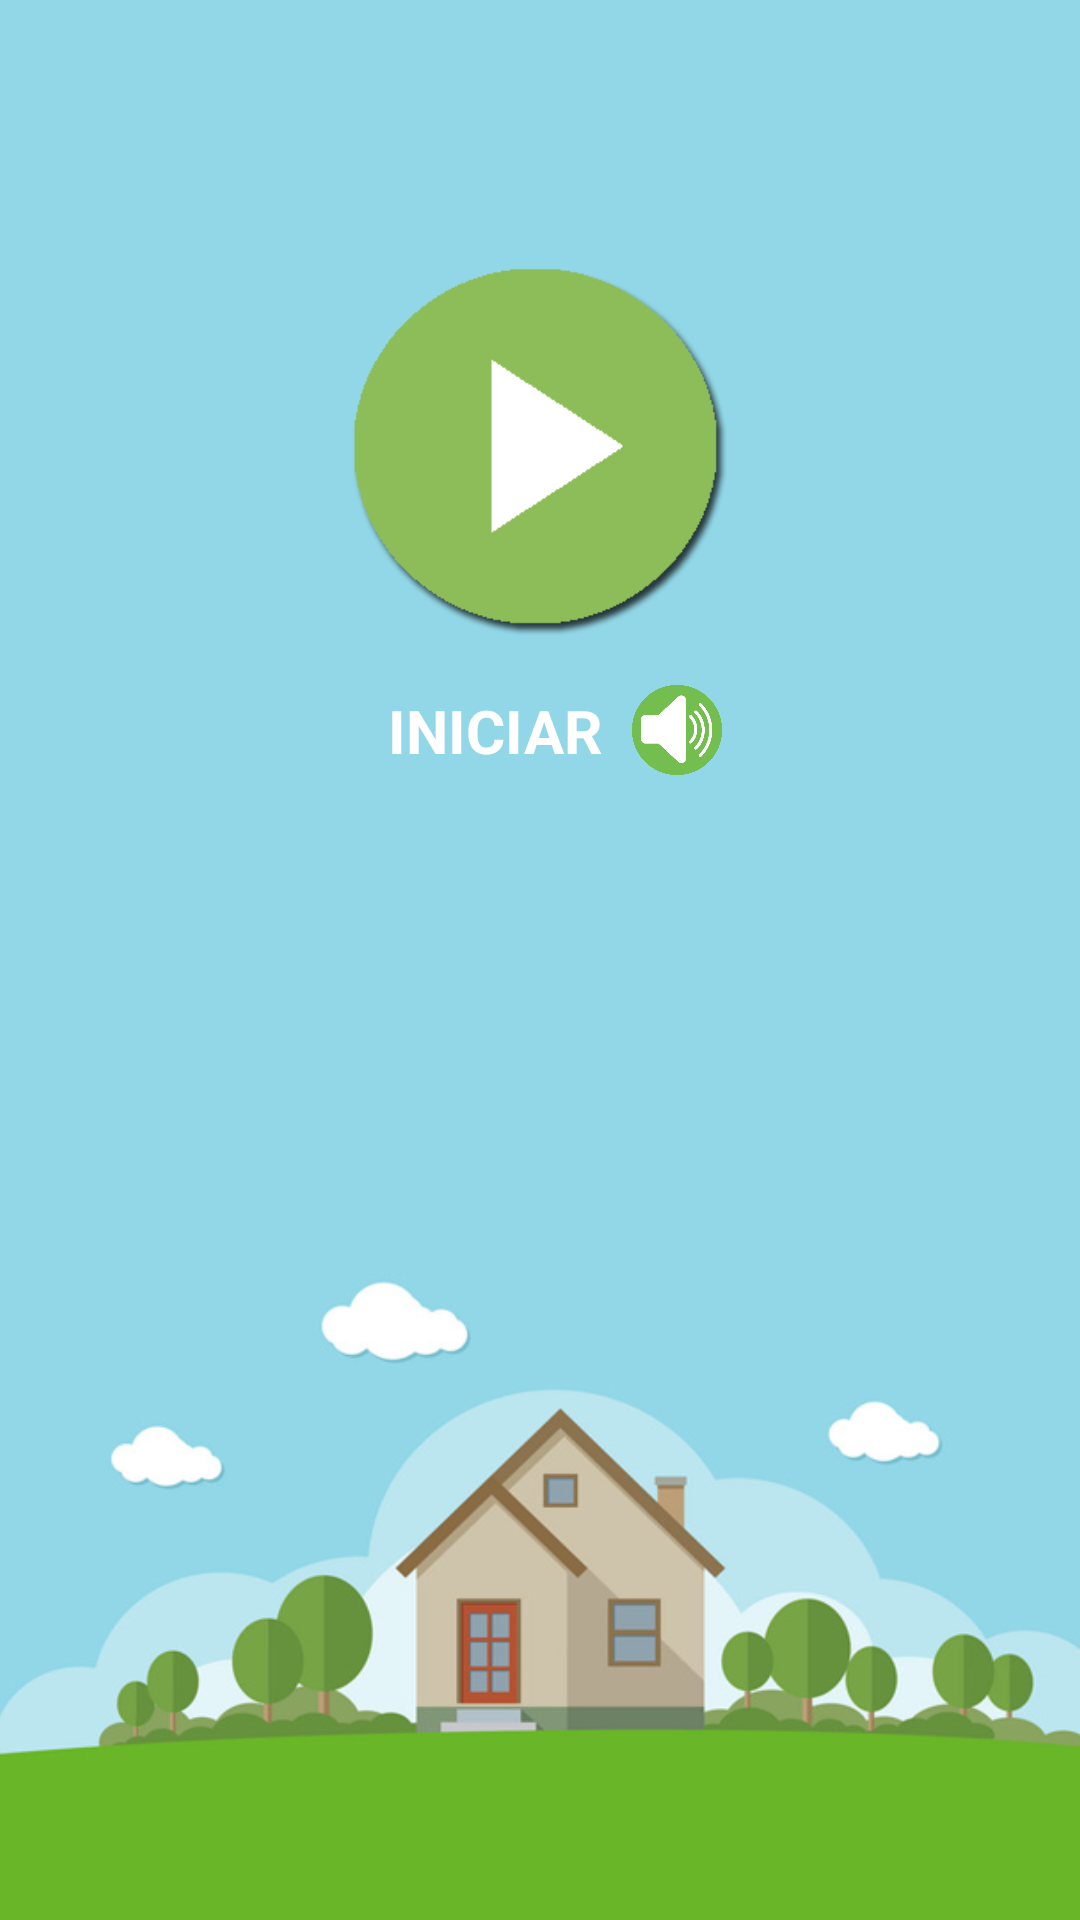

Named icons in this screenshot (1080 × 1920) and their centers, point (x, y):
speaker: point (677, 730)
